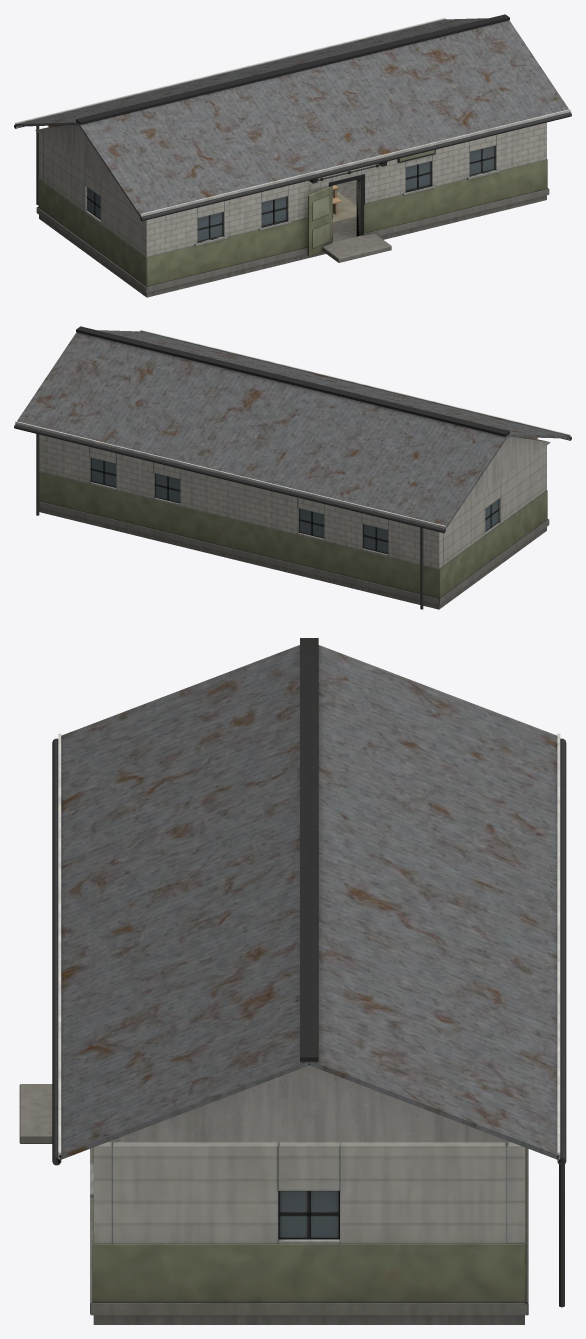
Rendered from bldA.glb.
The picture shows the model from 3 angles, top to bottom: view 1: azimuth 30°, elevation 25°; view 2: azimuth 150°, elevation 25°; view 3: azimuth 270°, elevation 25°; orthographic projection. The views are drawn at different scales.
Visible parts, largest first — view 1: BldA_Roof, BldA_Shell, BldA_Interior; view 2: BldA_Roof, BldA_Shell; view 3: BldA_Roof, BldA_Shell.
Part boxes in pixels (x1,y1,x2,y2): BldA_Roof: (14, 14, 571, 221); BldA_Shell: (36, 122, 549, 297); BldA_Interior: (332, 185, 356, 222); BldA_Roof: (14, 326, 571, 533); BldA_Shell: (36, 433, 549, 609); BldA_Roof: (52, 638, 566, 1165); BldA_Shell: (19, 1084, 564, 1324).
Bounding box in the file's own units: 16.1 × 5.05 × 8.87.
3 materials, 3 textured.
